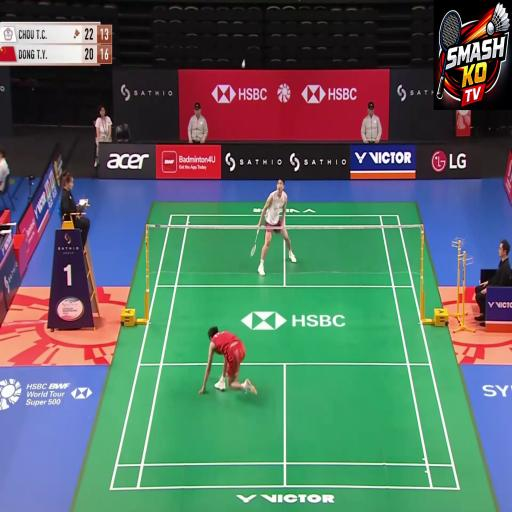player: (205, 304, 260, 437), (262, 167, 296, 296)
